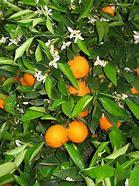orange: (44, 115, 100, 148), (62, 53, 91, 74)
